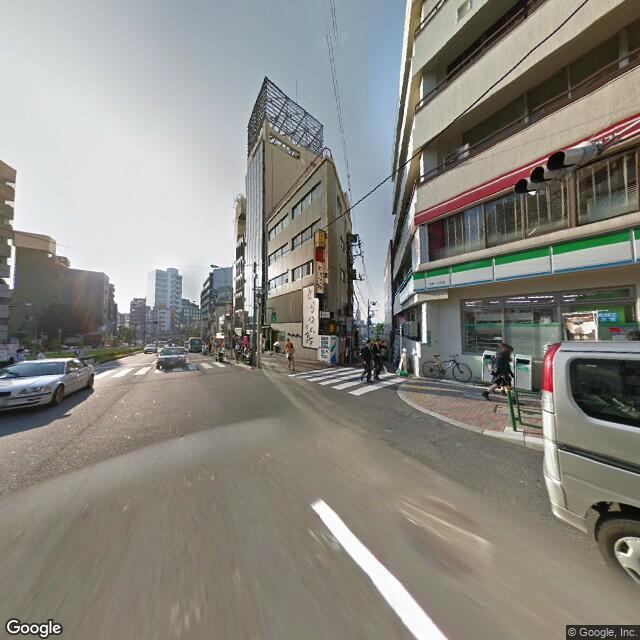family_mart: (410, 224, 637, 295)
